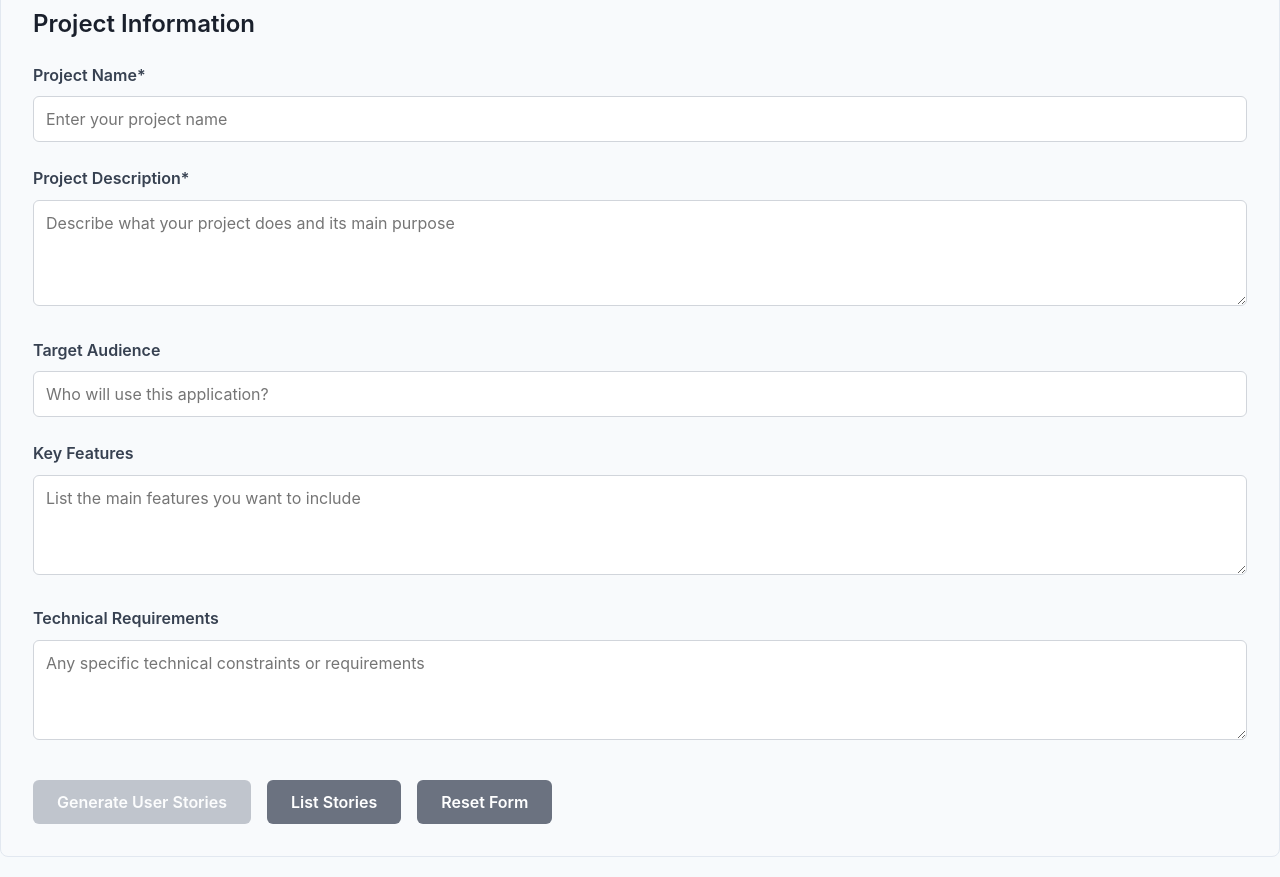
Scenario: StoryGenerator Component › Pagination Functionality › shows pagination controls when there are multiple pages
Click the button "List Stories" at (334, 802), box [267, 780, 401, 824]
(page scrolled)
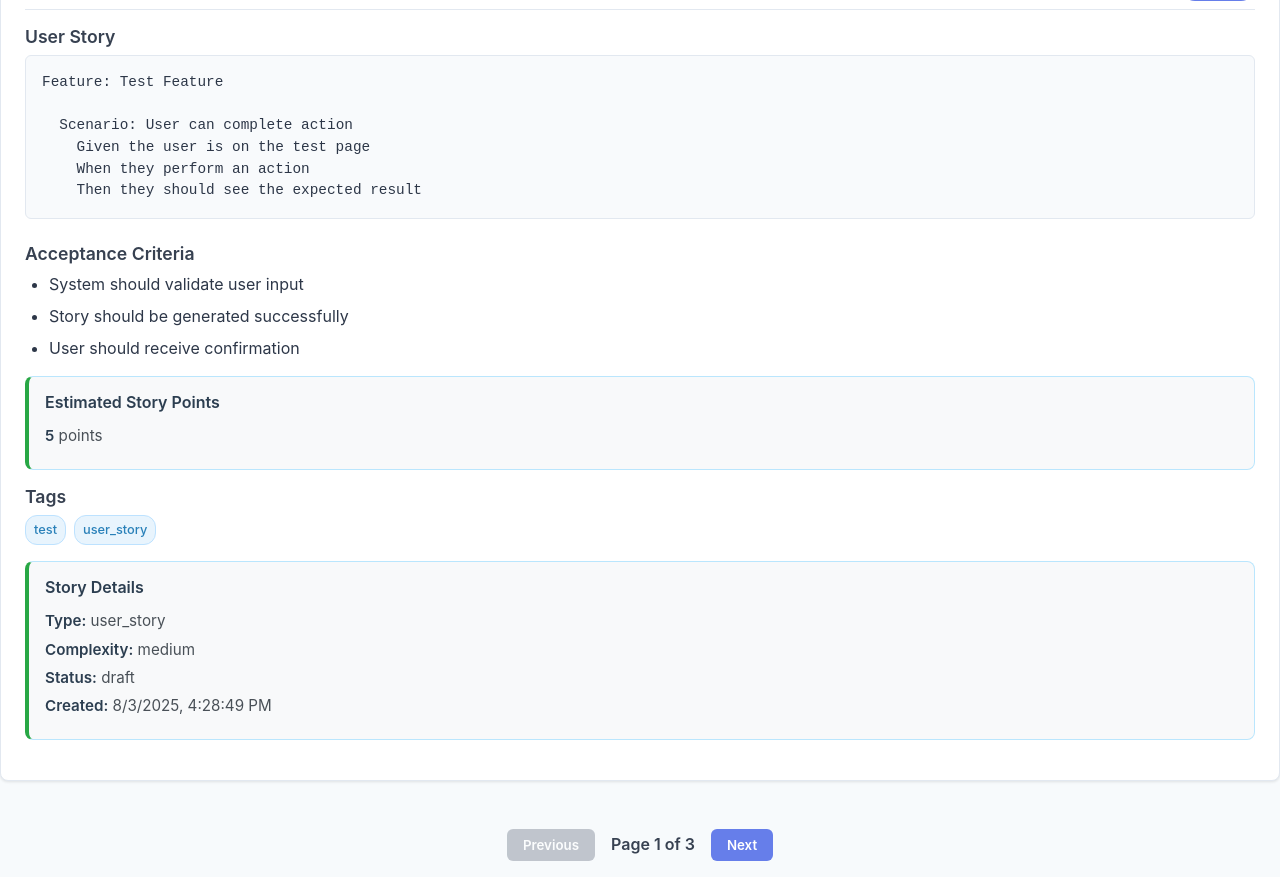
Result: the text "Page 1 of 3" is shown at [611, 832, 695, 857]
Result: the button "Previous" is shown at [507, 828, 595, 860]
Result: the button "Next" is shown at [711, 828, 773, 860]
